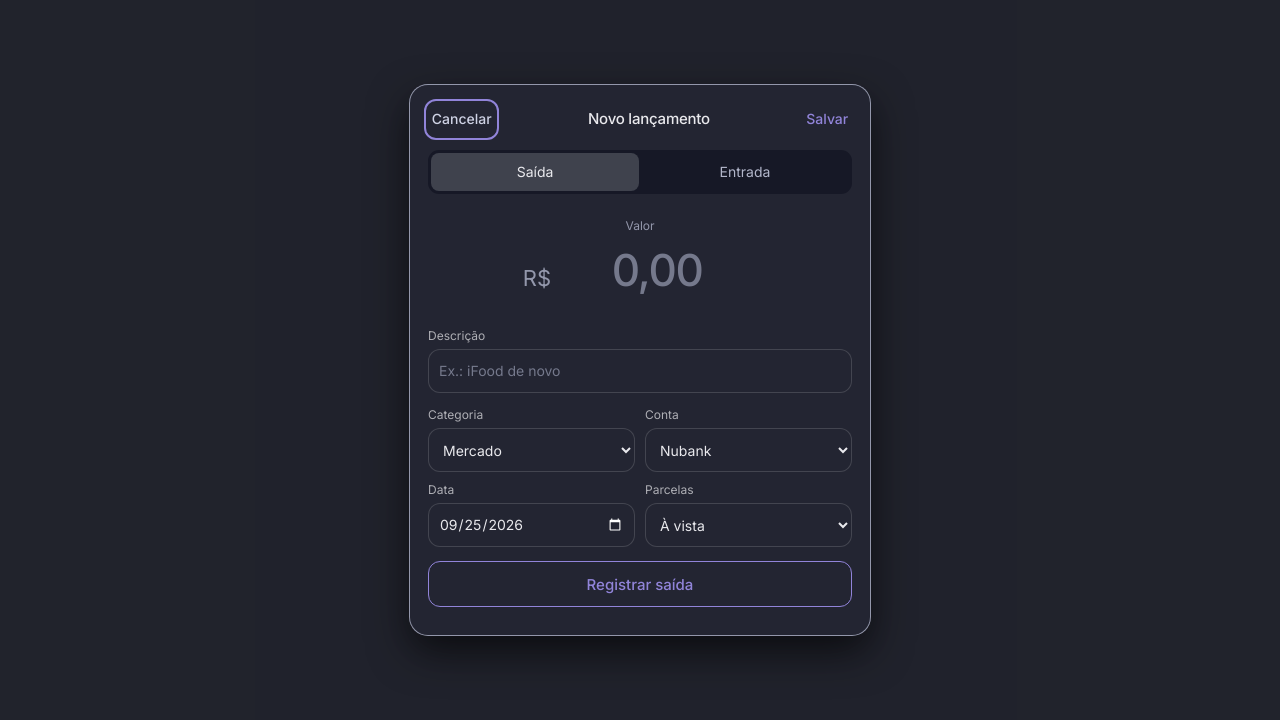
Scenario: TransactionDialog › trocar pra entrada reseta categoria, esconde parcelas e cartões
This screenshot has width=1280, height=720.
Click the button "Entrada". click: x=745, y=172
box: 641,153 -> 849,191
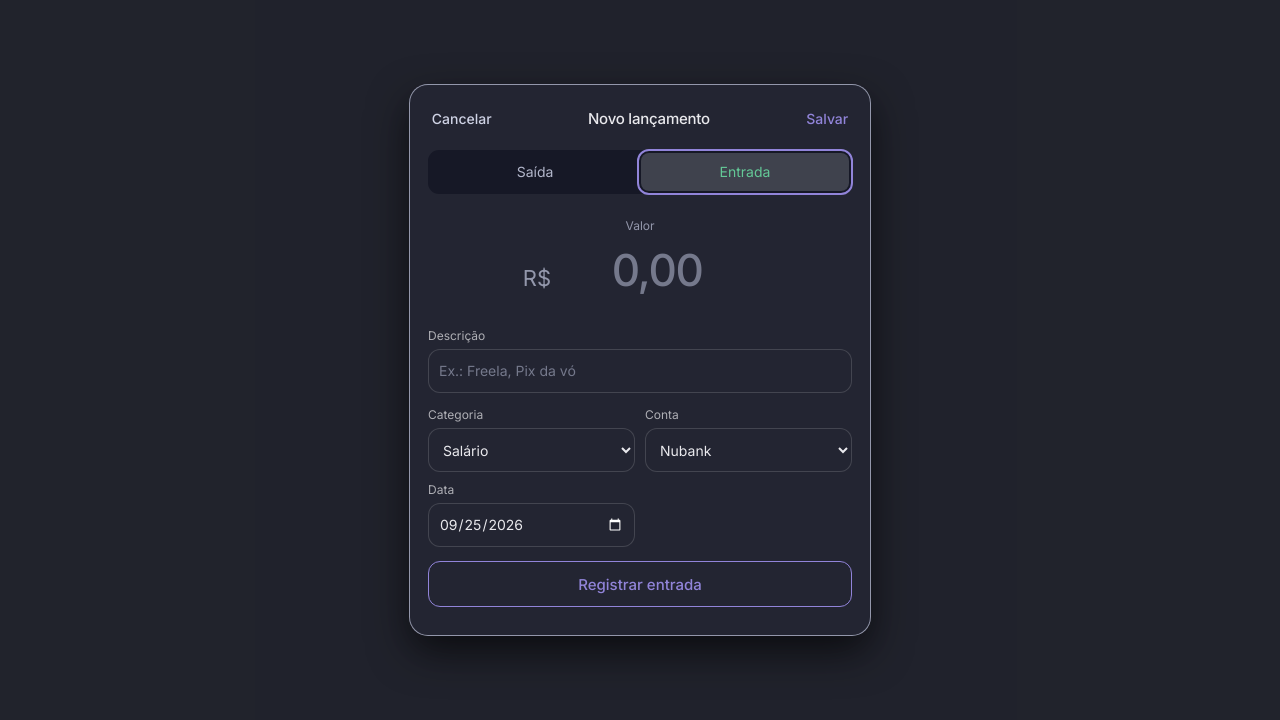
Now the dropdown labelled "Categoria" shows "Salário", box 428,428 -> 635,472
Now the label labelled "Parcelas" is gone
Now the button "Registrar entrada" is shown, box 428,561 -> 852,607
